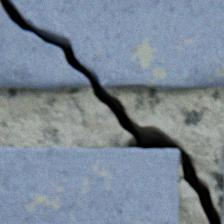brick: (0, 148, 179, 223)
broken_brick: (10, 0, 223, 90), (0, 2, 91, 90)
crack: (0, 0, 222, 223)
